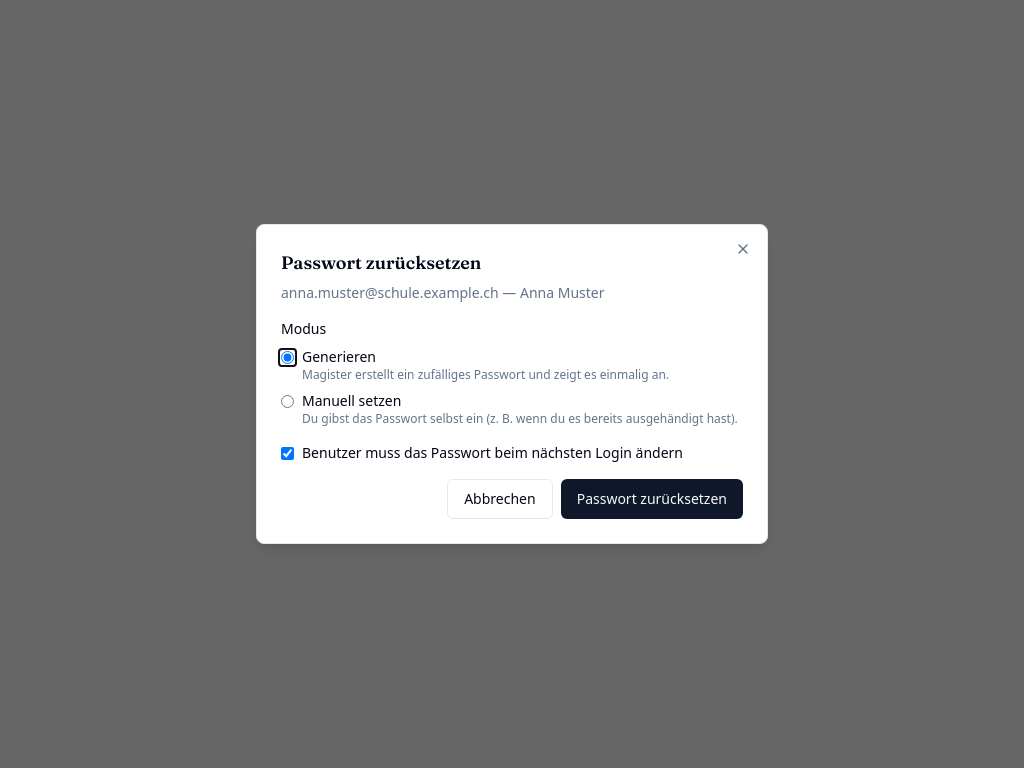
Test case: ResetPasswordModal › disables submit in manual mode until the password is long enough
Click the radio button labelled "Manuell setzen" at (288, 402), box [281,395,294,408]
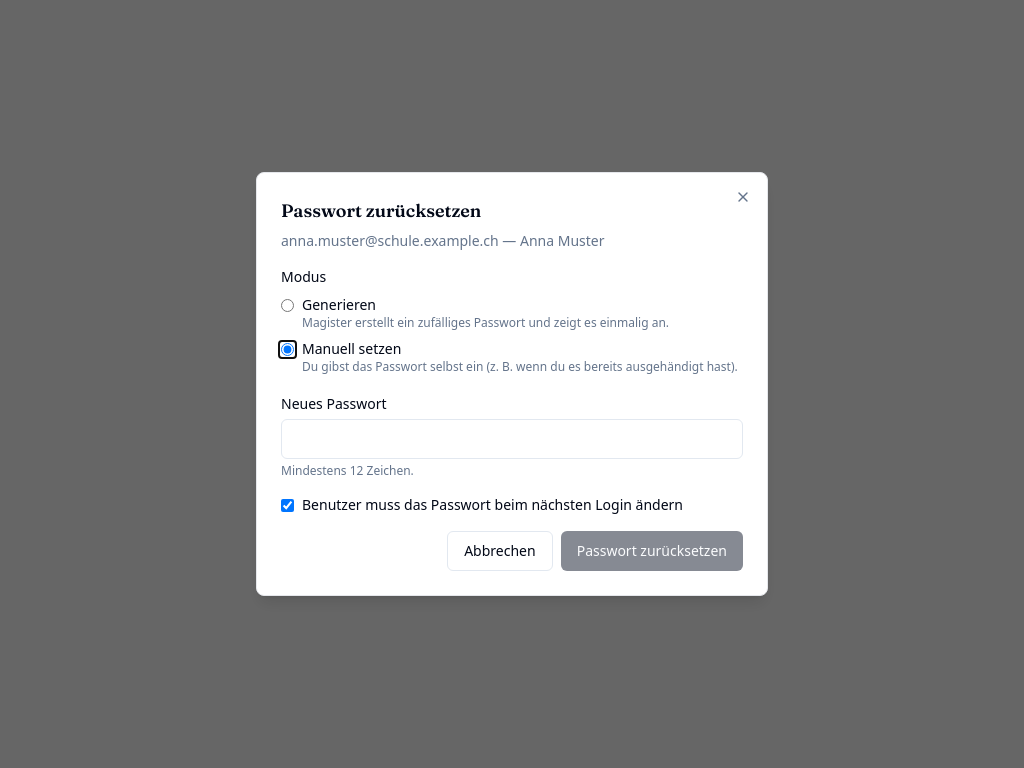
Check: the button "Passwort zurücksetzen" is disabled, box [561,531,743,571]
Type "shortpw" into the field labelled "Neues Passwort" at (512, 439), box [281,419,743,459]
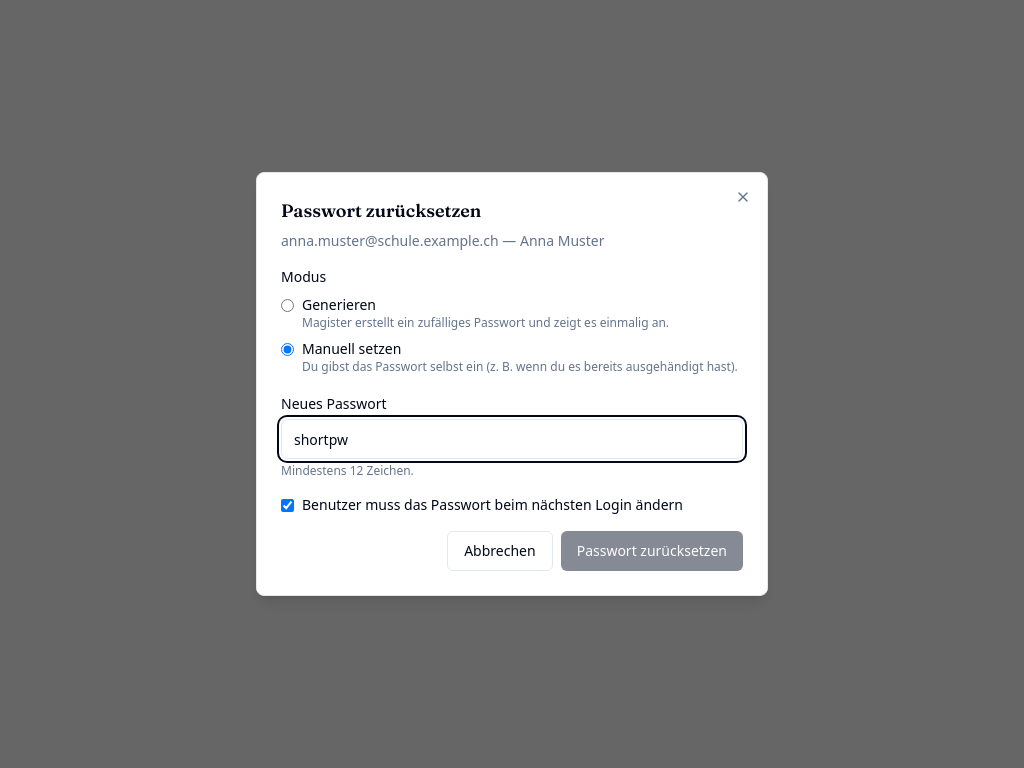
Check: the button "Passwort zurücksetzen" is disabled, box [561,531,743,571]
Type "-long-enough" into the field labelled "Neues Passwort" at (512, 439), box [281,419,743,459]
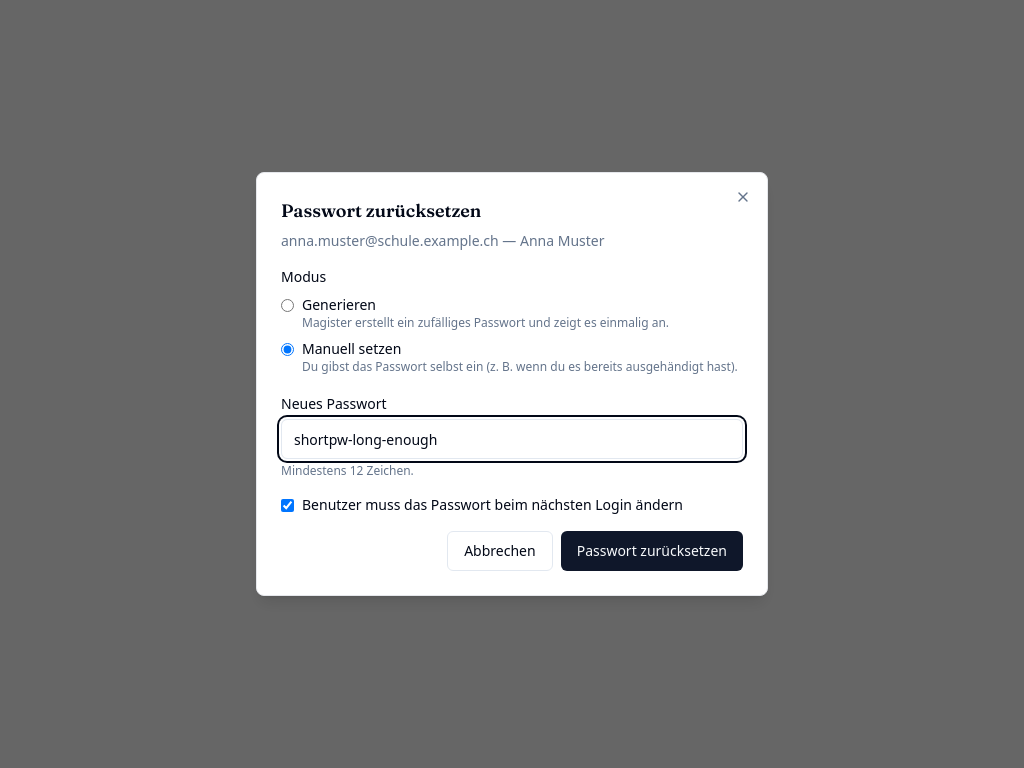
Check: the button "Passwort zurücksetzen" is enabled, box [561,531,743,571]
